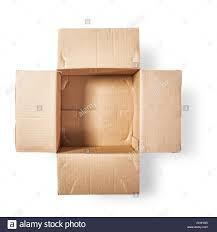Cardboard: (8, 17, 217, 212)
